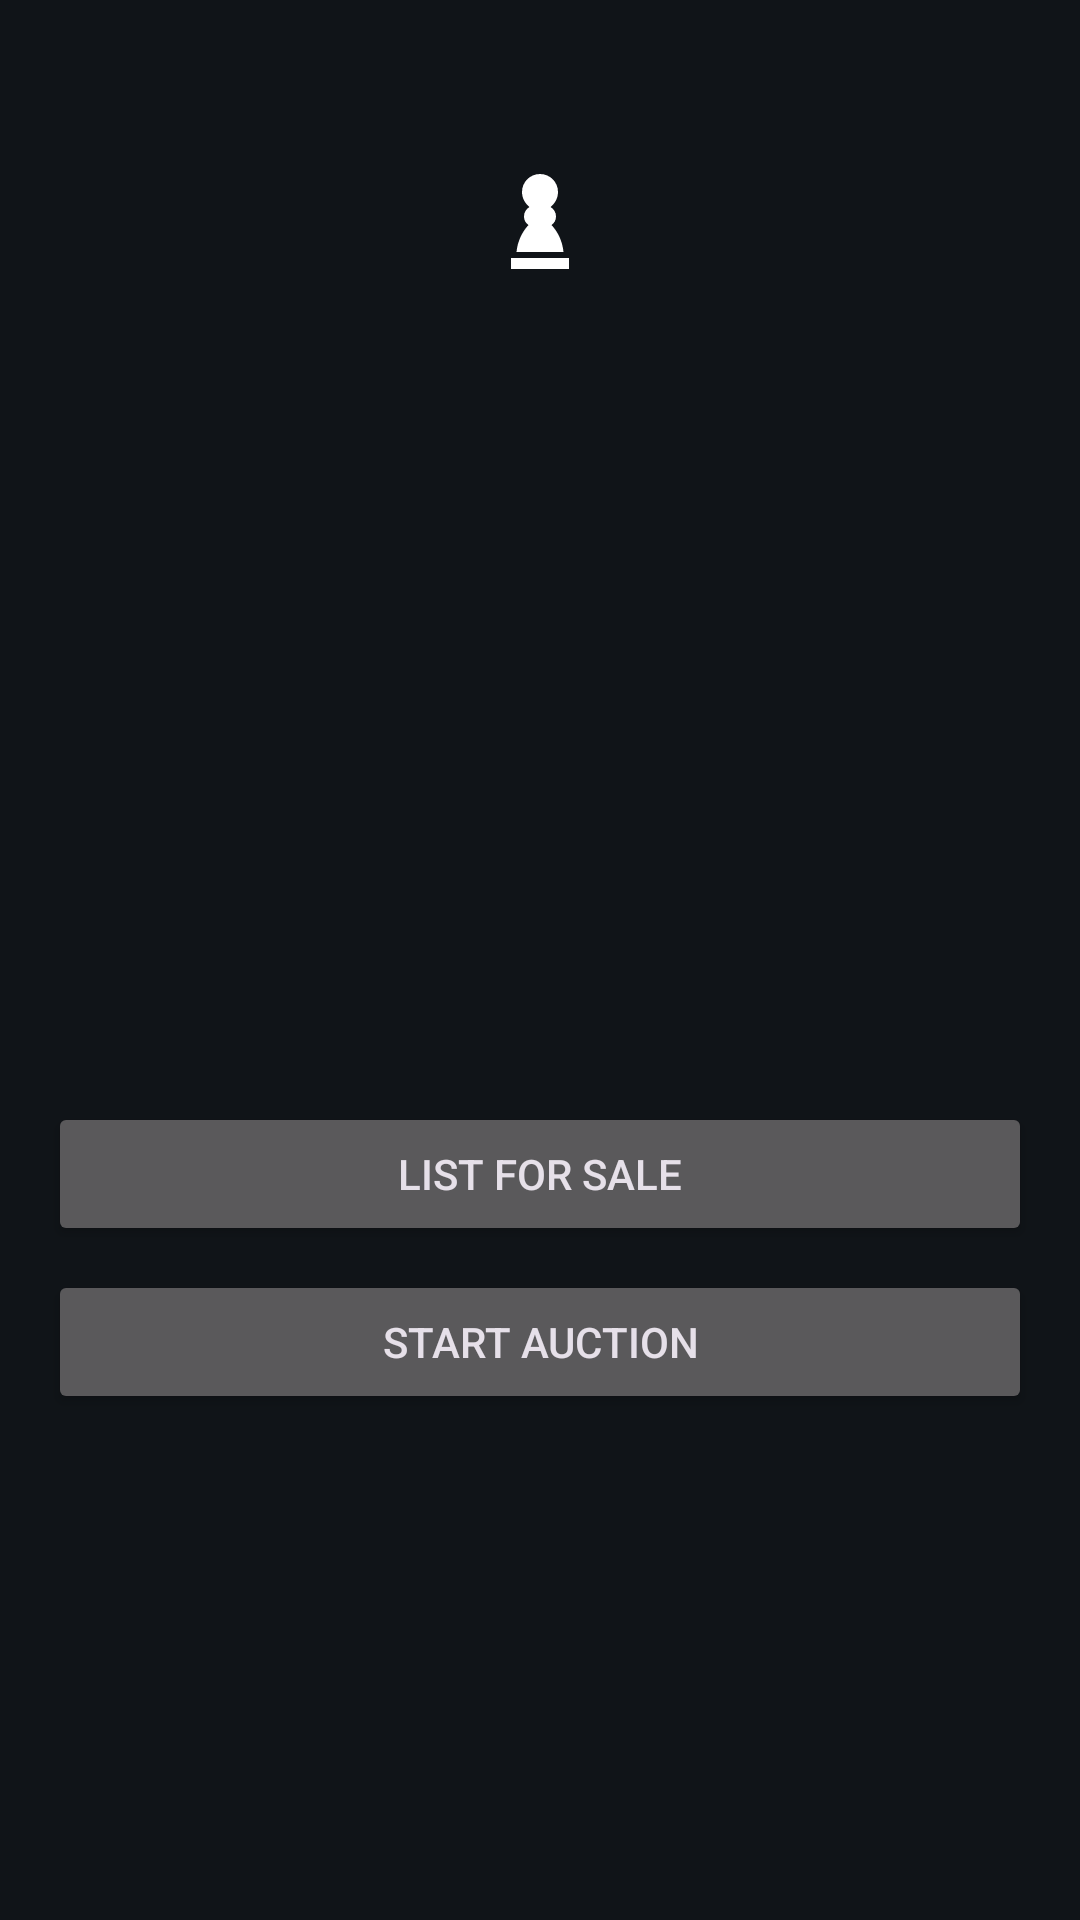

Screen size 1080x1920. Icon name, then its center in pixels as (x=x, y=y):
pawn: (x=540, y=221)
